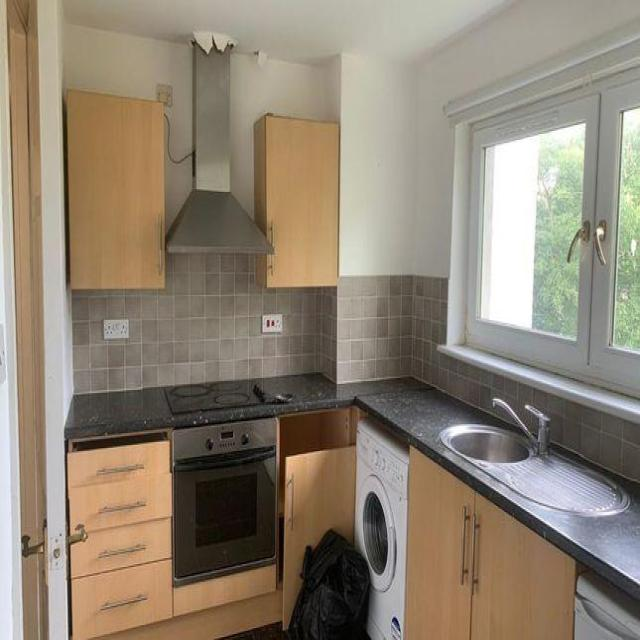Wall: (339, 0, 640, 277), (263, 276, 640, 481), (74, 255, 319, 393), (64, 1, 510, 63), (64, 22, 193, 158), (231, 53, 337, 217), (165, 152, 191, 226)
